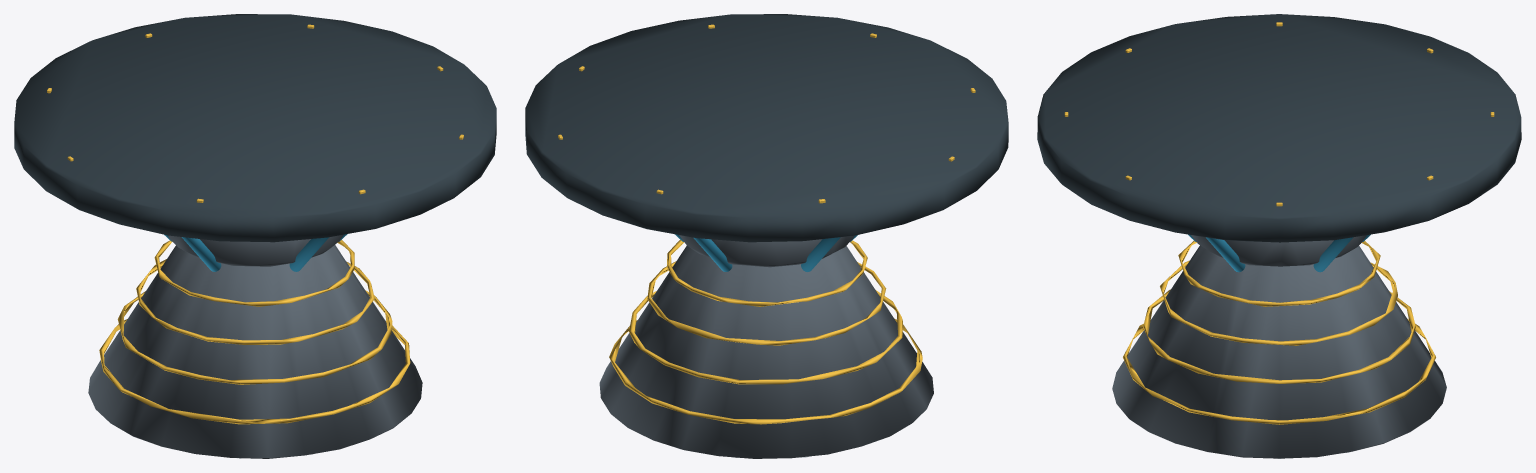
Rendered from perilune-aspen-engine.glb.
3 views of the same model, side by side, from view 1: azimuth 30°, elevation 25°; view 2: azimuth 150°, elevation 25°; view 3: azimuth 270°, elevation 25° (orthographic).
Parts seen in each view (by area): view 1: SM_Engine_Aspen_Mount, SM_Engine_Aspen_Bell, SM_Engine_Aspen_Chamber, SM_Engine_Aspen_CoolingBand_56, SM_Engine_Aspen_CoolingBand_39, SM_Engine_Aspen_CoolingBand_22, SM_Engine_Aspen_CoolingBand_05, SM_Engine_Aspen_Truss_06, SM_Engine_Aspen_Truss_01; view 2: SM_Engine_Aspen_Mount, SM_Engine_Aspen_Bell, SM_Engine_Aspen_Chamber, SM_Engine_Aspen_CoolingBand_56, SM_Engine_Aspen_CoolingBand_39, SM_Engine_Aspen_CoolingBand_22, SM_Engine_Aspen_CoolingBand_05, SM_Engine_Aspen_Truss_05, SM_Engine_Aspen_Truss_04; view 3: SM_Engine_Aspen_Mount, SM_Engine_Aspen_Bell, SM_Engine_Aspen_Chamber, SM_Engine_Aspen_CoolingBand_56, SM_Engine_Aspen_CoolingBand_39, SM_Engine_Aspen_CoolingBand_22, SM_Engine_Aspen_CoolingBand_05, SM_Engine_Aspen_Truss_02, SM_Engine_Aspen_Truss_03.
Boxes of the visible parts, x1,y1,x2,y2 form: SM_Engine_Aspen_Mount: [14, 14, 496, 242]; SM_Engine_Aspen_Bell: [88, 245, 422, 458]; SM_Engine_Aspen_Chamber: [168, 234, 343, 266]; SM_Engine_Aspen_CoolingBand_56: [99, 319, 410, 424]; SM_Engine_Aspen_CoolingBand_39: [117, 290, 392, 384]; SM_Engine_Aspen_CoolingBand_22: [136, 259, 374, 344]; SM_Engine_Aspen_CoolingBand_05: [154, 240, 354, 306]; SM_Engine_Aspen_Truss_06: [181, 237, 221, 271]; SM_Engine_Aspen_Truss_01: [289, 237, 328, 271]; SM_Engine_Aspen_Mount: [525, 14, 1008, 242]; SM_Engine_Aspen_Bell: [599, 245, 933, 458]; SM_Engine_Aspen_Chamber: [679, 235, 853, 267]; SM_Engine_Aspen_CoolingBand_56: [609, 318, 922, 424]; SM_Engine_Aspen_CoolingBand_39: [629, 290, 902, 384]; SM_Engine_Aspen_CoolingBand_22: [647, 261, 886, 345]; SM_Engine_Aspen_CoolingBand_05: [666, 239, 867, 306]; SM_Engine_Aspen_Truss_05: [801, 237, 840, 271]; SM_Engine_Aspen_Truss_04: [693, 237, 732, 271]; SM_Engine_Aspen_Mount: [1037, 14, 1521, 242]; SM_Engine_Aspen_Bell: [1112, 245, 1446, 458]; SM_Engine_Aspen_Chamber: [1191, 235, 1366, 266]; SM_Engine_Aspen_CoolingBand_56: [1123, 318, 1435, 424]; SM_Engine_Aspen_CoolingBand_39: [1143, 289, 1415, 383]; SM_Engine_Aspen_CoolingBand_22: [1160, 260, 1397, 345]; SM_Engine_Aspen_CoolingBand_05: [1178, 241, 1380, 306]; SM_Engine_Aspen_Truss_02: [1206, 237, 1245, 272]; SM_Engine_Aspen_Truss_03: [1313, 237, 1352, 272].
Bounding box in the file's own units: 2.36 × 1.52 × 2.36.
